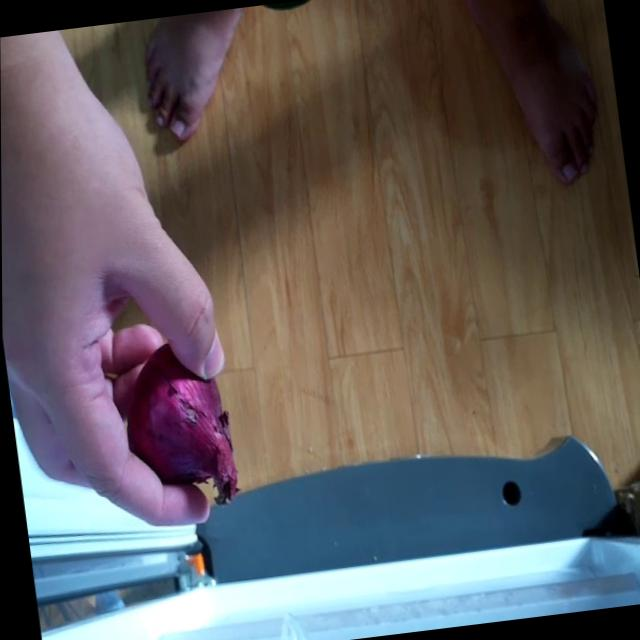onion: (120, 331, 242, 513)
